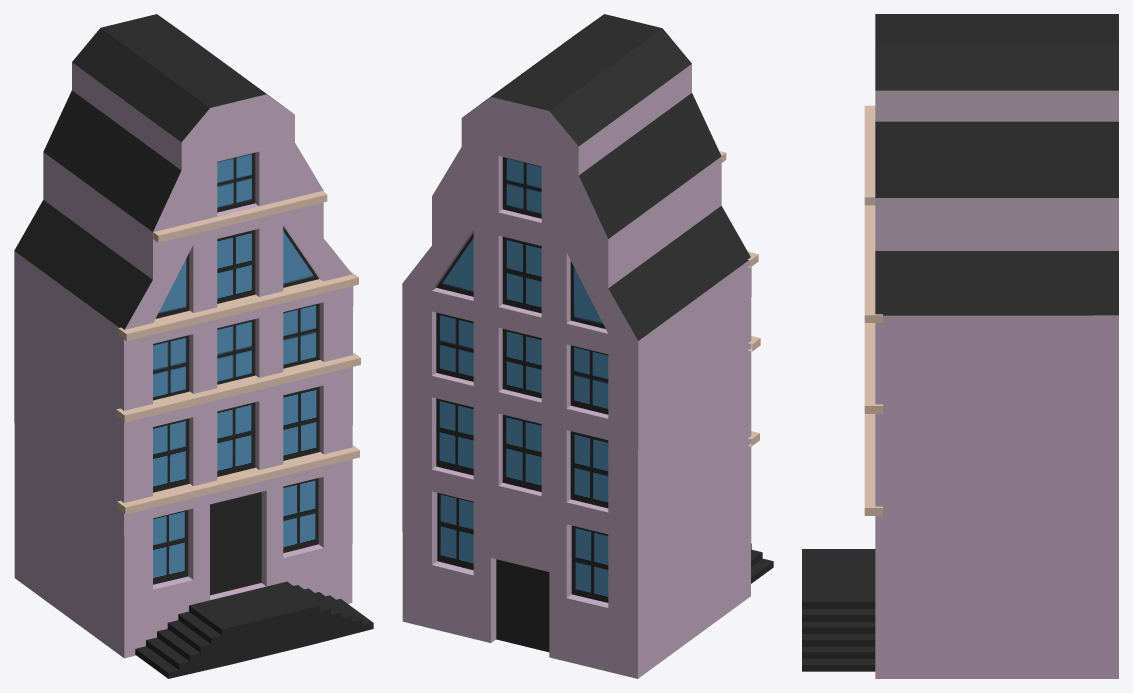
File: HighLavender.obj
3 views of the same model, side by side, from view 1: azimuth 30°, elevation 25°; view 2: azimuth 150°, elevation 25°; view 3: azimuth 270°, elevation 25° (orthographic). The views are drawn at different scales.
Parts seen in each view (by area): view 1: WysokiLawenda.001; view 2: WysokiLawenda.001; view 3: WysokiLawenda.001.
Part boxes in pixels (<box>): WysokiLawenda.001: <box>14,14,373,678</box>; WysokiLawenda.001: <box>402,14,773,678</box>; WysokiLawenda.001: <box>802,14,1118,678</box>.
Bounding box in the file's own units: 6.21 × 13.31 × 6.5.
